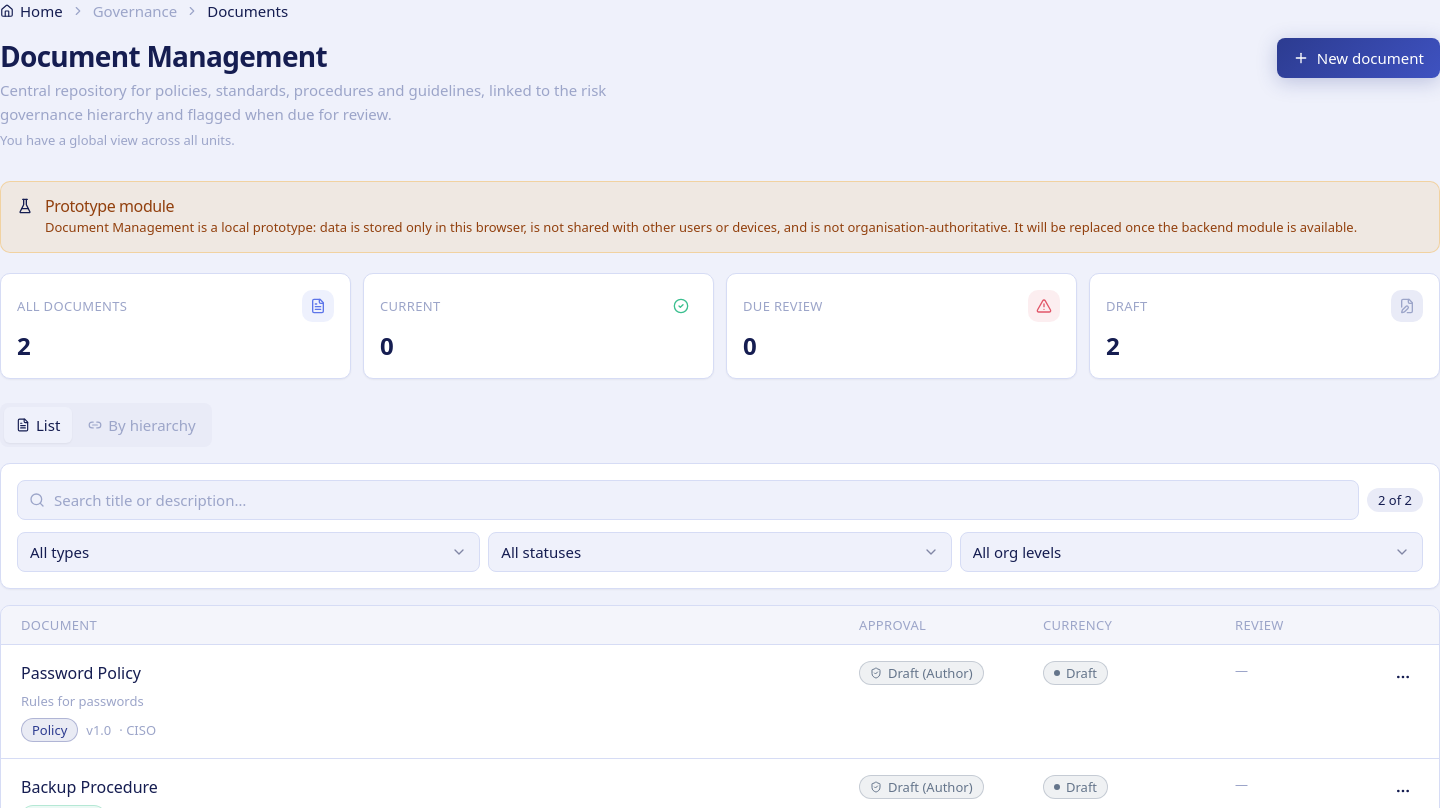
DocumentManagement › deletes a document after confirmation
The image size is (1440, 808).
Press Enter in the button named "Actions for Password Policy", box x1=1387 y1=661 x2=1419 y2=693
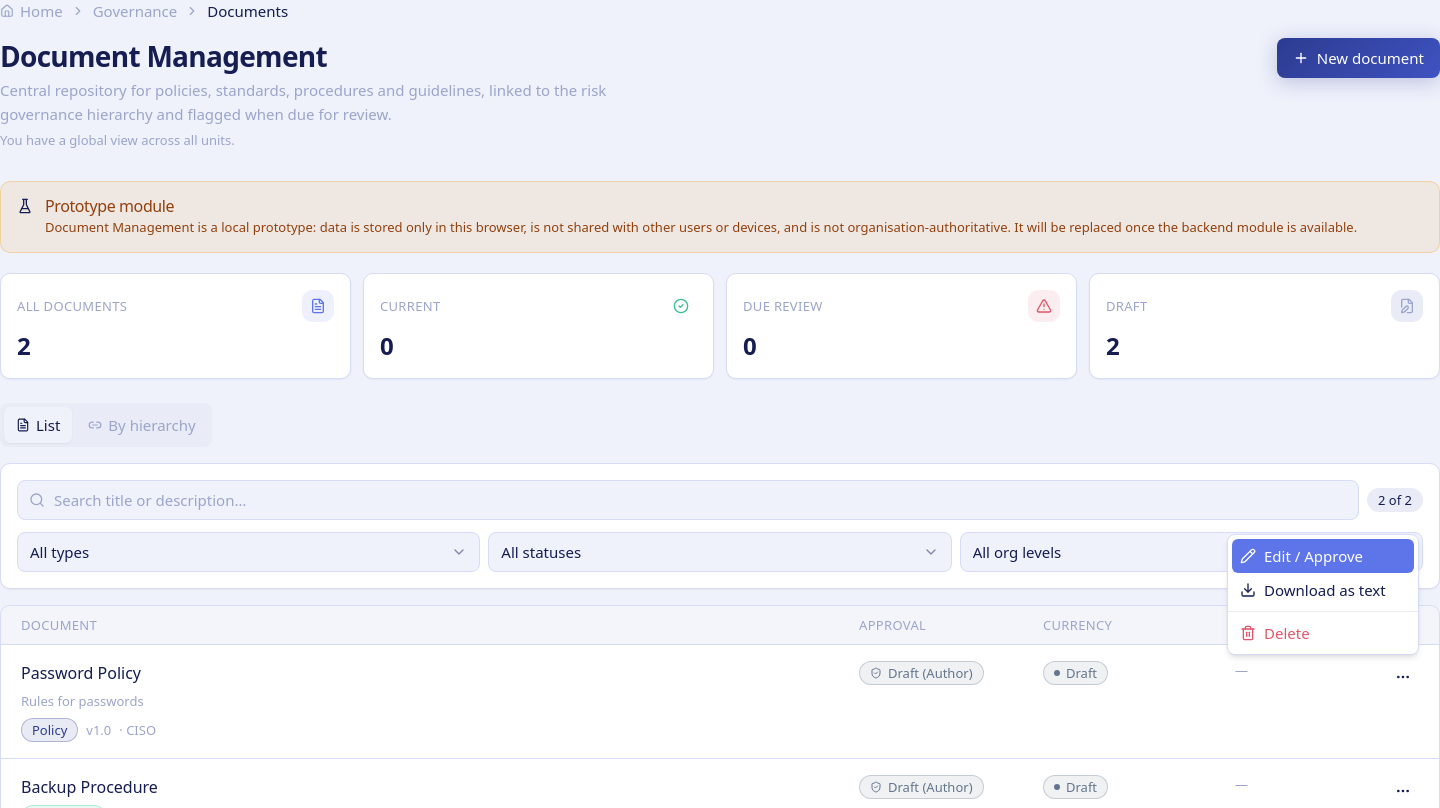
Click the menu item "Delete" at (1275, 633), box x1=1240 y1=623 x2=1310 y2=643
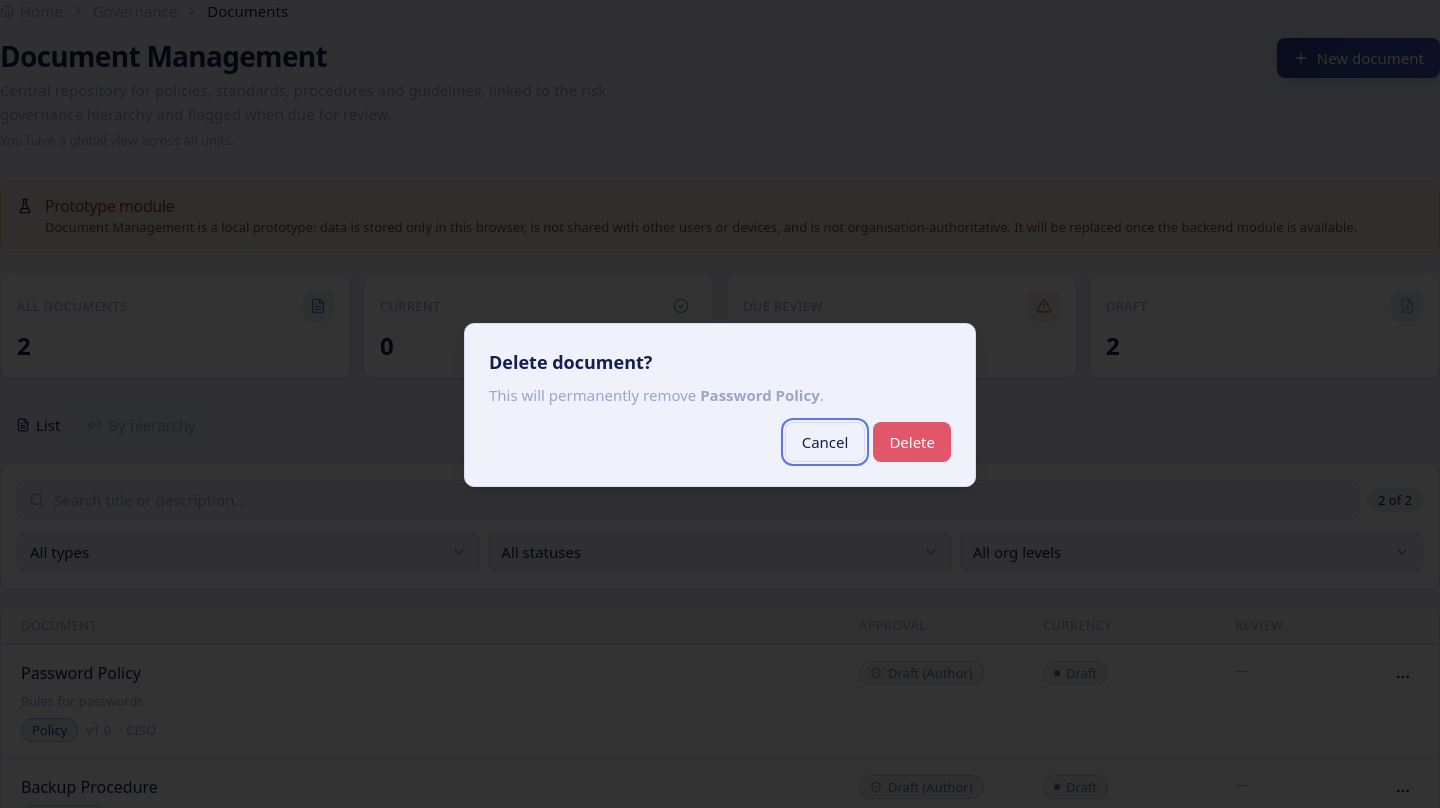
Expected: the text "Password Policy" is shown, x1=700 y1=385 x2=820 y2=405
Click the button "Delete" at (912, 442), box x1=873 y1=422 x2=951 y2=462
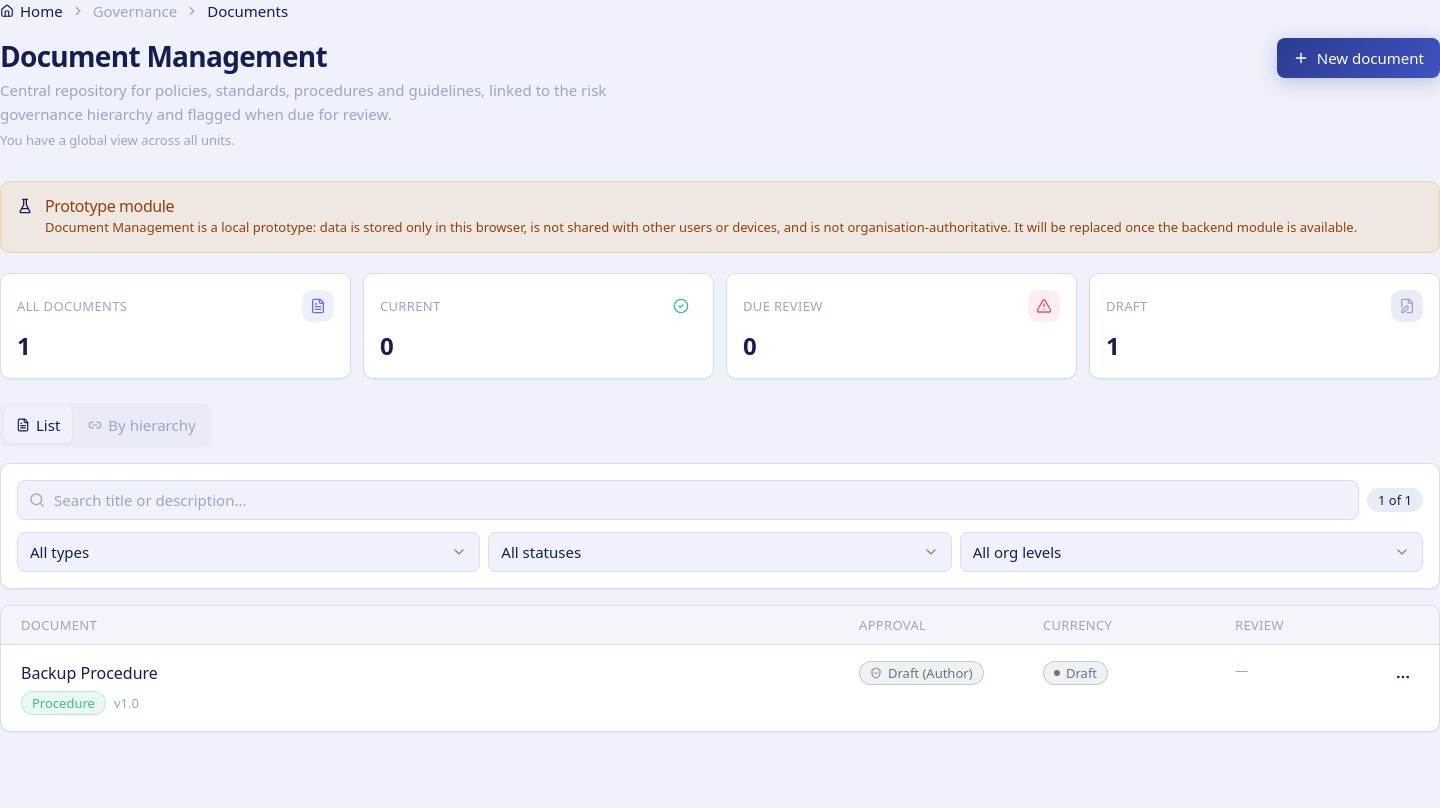
Expected: the text "Rules for passwords" is gone
